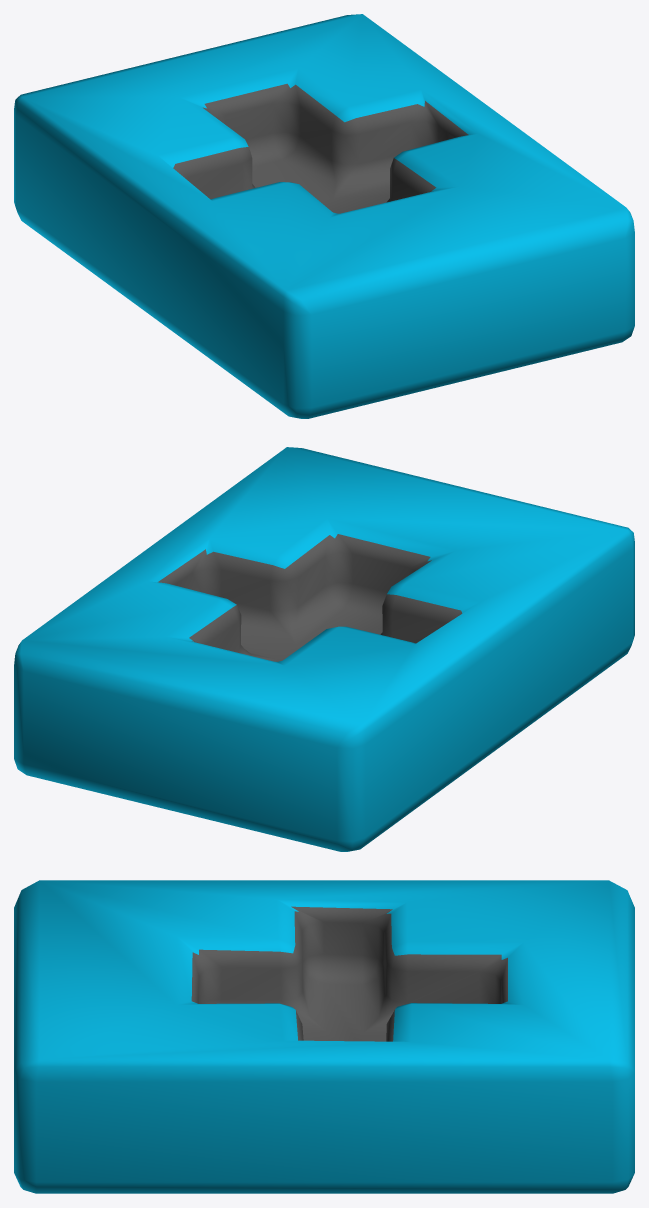
The model's file is increase.glb.
The picture shows the model from 3 angles, top to bottom: view 1: azimuth 30°, elevation 25°; view 2: azimuth 150°, elevation 25°; view 3: azimuth 270°, elevation 25°; orthographic projection. The views are drawn at different scales.
Visible parts, largest first — view 1: Cube; view 2: Cube; view 3: Cube.
Boxes of the visible parts, bbox=[...] form: Cube: bbox=[14, 14, 634, 418]; Cube: bbox=[14, 447, 634, 851]; Cube: bbox=[14, 880, 634, 1193].
Bounding box in the file's own units: 0.35 × 0.125 × 0.5.
